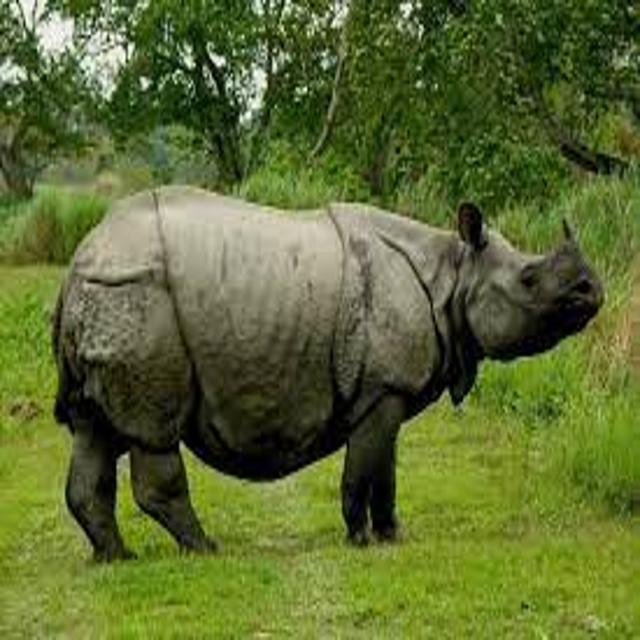rhino: (28, 147, 632, 582)
